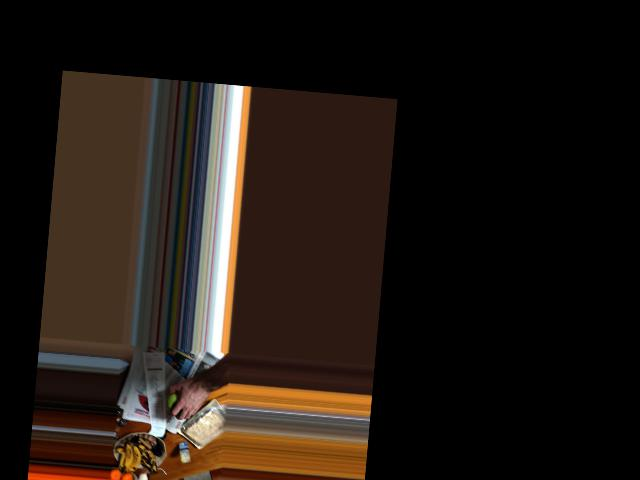apple: (166, 387, 193, 416)
